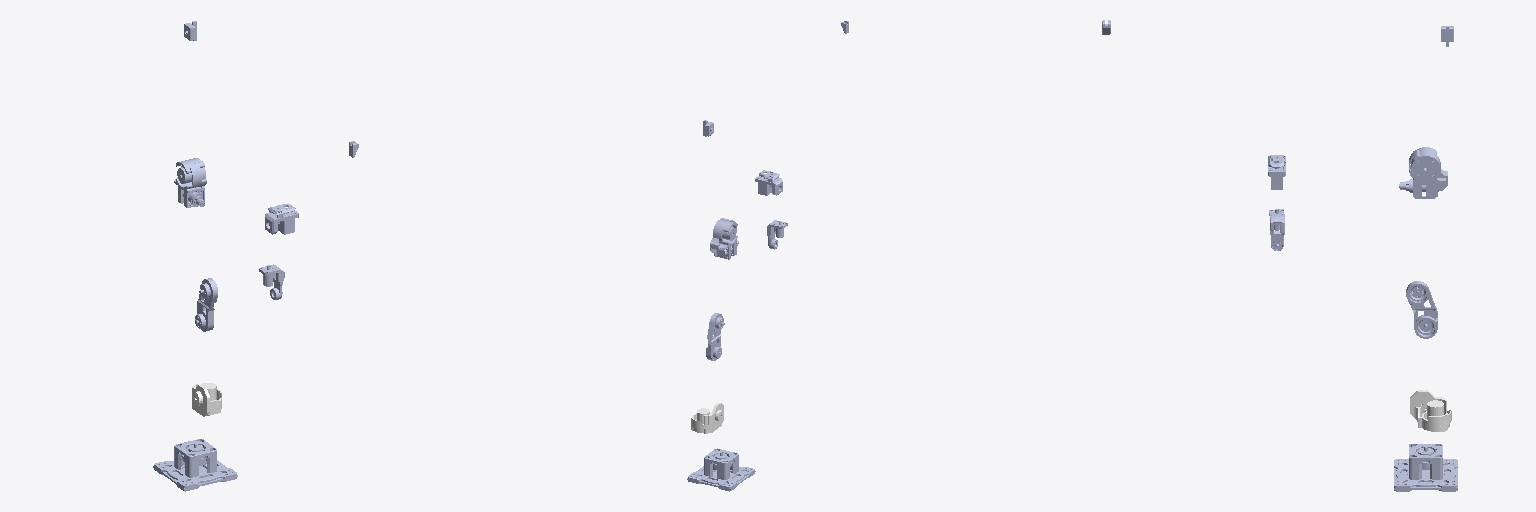
The robot description file, URDF, robot "robot_arm_urdf":
<?xml version="1.0" encoding="utf-8"?>
<!-- This URDF was automatically created by SolidWorks to URDF Exporter! Originally created by Stephen Brawner ([email redacted]) 
     Commit Version: 1.5.1-0-g916b5db  Build Version: 1.5.7152.31018
     For more information, please see http://wiki.ros.org/sw_urdf_exporter -->
<robot
  name="robot_arm_urdf">

 <link name="world"/> 
  <joint name="base_joint" type="fixed"> 
  	<parent link="world"/> 
 	<child link="base_link"/> 
  	<origin rpy="0 0 0" xyz="0.0 0.0 0.01"/> 
  </joint> 

  <link
    name="base_link">
    <inertial>
      <origin
        xyz="4.1633E-17 0 0.073876"
        rpy="0 0 0" />
      <mass
        value="17.147" />
      <inertia
        ixx="0.192"
        ixy="-4.9423E-10"
        ixz="1.2752E-17"
        iyy="0.192"
        iyz="2.6417E-18"
        izz="0.29544" />
    </inertial>
    <visual>
      <origin
        xyz="0 0 0"
        rpy="0 0 0" />
      <geometry>
        <mesh
          filename="package://robot_arm_urdf/meshes/base_link.STL" />
      </geometry>
      <material
        name="">
        <color
          rgba="0.79216 0.81961 0.93333 1" />
      </material>
    </visual>
    <collision>
      <origin
        xyz="0 0 0"
        rpy="0 0 0" />
      <geometry>
        <mesh
          filename="package://robot_arm_urdf/meshes/base_link.STL" />
      </geometry>
    </collision>
  </link>
  <link
    name="link_1">
    <inertial>
      <origin
        xyz="-2.5757E-14 0.11047 -7.8988E-11"
        rpy="0 0 0" />
      <mass
        value="3.0905" />
      <inertia
        ixx="0.026302"
        ixy="-2.5267E-15"
        ixz="-1.4177E-12"
        iyy="0.019632"
        iyz="-7.4535E-12"
        izz="0.025388" />
    </inertial>
    <visual>
      <origin
        xyz="0 0 0"
        rpy="0 0 0" />
      <geometry>
        <mesh
          filename="package://robot_arm_urdf/meshes/link_1.STL" />
      </geometry>
      <material
        name="">
        <color
          rgba="1 1 1 1" />
      </material>
    </visual>
    <collision>
      <origin
        xyz="0 0 0"
        rpy="0 0 0" />
      <geometry>
        <mesh
          filename="package://robot_arm_urdf/meshes/link_1.STL" />
      </geometry>
    </collision>
  </link>
  <joint
    name="joint_1"
    type="revolute">
    <origin
      xyz="0 0 0.2"
      rpy="1.5708 0 1.5708" />
    <parent
      link="base_link" />
    <child
      link="link_1" />
    <axis
      xyz="0 1 0" />
    <limit
      lower="0"
      upper="3.142"
      effort="300"
      velocity="3" />
  </joint>
  <link
    name="link_2">
    <inertial>
      <origin
        xyz="-1.1102E-16 0.16752 -2.498E-16"
        rpy="0 0 0" />
      <mass
        value="5.5867" />
      <inertia
        ixx="0.12632"
        ixy="8.4877E-17"
        ixz="7.8685E-19"
        iyy="0.011401"
        iyz="1.4432E-16"
        izz="0.12911" />
    </inertial>
    <visual>
      <origin
        xyz="0 0 0"
        rpy="0 0 0" />
      <geometry>
        <mesh
          filename="package://robot_arm_urdf/meshes/link_2.STL" />
      </geometry>
      <material
        name="">
        <color
          rgba="0.79216 0.81961 0.93333 1" />
      </material>
    </visual>
    <collision>
      <origin
        xyz="0 0 0"
        rpy="0 0 0" />
      <geometry>
        <mesh
          filename="package://robot_arm_urdf/meshes/link_2.STL" />
      </geometry>
    </collision>
  </link>
  <joint
    name="joint_2"
    type="revolute">
    <origin
      xyz="0 0.205 0"
      rpy="0 0 0" />
    <parent
      link="link_1" />
    <child
      link="link_2" />
    <axis
      xyz="0 0 1" />
    <limit
      lower="-1.57"
      upper="1.57"
      effort="200"
      velocity="3" />
  </joint>
  <link
    name="link_3">
    <inertial>
      <origin
        xyz="-0.17893 0 -1.249E-16"
        rpy="0 0 0" />
      <mass
        value="2.8262" />
      <inertia
        ixx="0.0074041"
        ixy="-1.7927E-17"
        ixz="4.2672E-17"
        iyy="0.028552"
        iyz="-3.4736E-10"
        izz="0.025128" />
    </inertial>
    <visual>
      <origin
        xyz="0 0 0"
        rpy="0 0 0" />
      <geometry>
        <mesh
          filename="package://robot_arm_urdf/meshes/link_3.STL" />
      </geometry>
      <material
        name="">
        <color
          rgba="0.79216 0.81961 0.93333 1" />
      </material>
    </visual>
    <collision>
      <origin
        xyz="0 0 0"
        rpy="0 0 0" />
      <geometry>
        <mesh
          filename="package://robot_arm_urdf/meshes/link_3.STL" />
      </geometry>
    </collision>
  </link>
  <joint
    name="joint_3"
    type="revolute">
    <origin
      xyz="0 0.4 0"
      rpy="0 0 0" />
    <parent
      link="link_2" />
    <child
      link="link_3" />
    <axis
      xyz="0 0 1" />
    <limit
      lower="0"
      upper="3.142"
      effort="200"
      velocity="3" />
  </joint>
  <link
    name="link_4">
    <inertial>
      <origin
        xyz="-0.051672 -2.2204E-16 -1.1102E-16"
        rpy="0 0 0" />
      <mass
        value="1.8097" />
      <inertia
        ixx="0.0023112"
        ixy="-9.6437E-18"
        ixz="-9.9829E-19"
        iyy="0.0096102"
        iyz="1.3194E-19"
        izz="0.0093908" />
    </inertial>
    <visual>
      <origin
        xyz="0 0 0"
        rpy="0 0 0" />
      <geometry>
        <mesh
          filename="package://robot_arm_urdf/meshes/link_4.STL" />
      </geometry>
      <material
        name="">
        <color
          rgba="0.79216 0.81961 0.93333 1" />
      </material>
    </visual>
    <collision>
      <origin
        xyz="0 0 0"
        rpy="0 0 0" />
      <geometry>
        <mesh
          filename="package://robot_arm_urdf/meshes/link_4.STL" />
      </geometry>
    </collision>
  </link>
  <joint
    name="joint_4"
    type="revolute">
    <origin
      xyz="-0.35 0 0"
      rpy="0 0 1.5708" />
    <parent
      link="link_3" />
    <child
      link="link_4" />
    <axis
      xyz="0 0 1" />
    <limit
      lower="0"
      upper="-3.142"
      effort="200"
      velocity="3" />
  </joint>
  <link
    name="link_5">
    <inertial>
      <origin
        xyz="-0.018544 0 -2.7756E-17"
        rpy="0 0 0" />
      <mass
        value="0.19053" />
      <inertia
        ixx="0.00030197"
        ixy="1.6611E-20"
        ixz="3.6309E-21"
        iyy="0.00022817"
        iyz="-1.9664E-11"
        izz="0.00011843" />
    </inertial>
    <visual>
      <origin
        xyz="0 0 0"
        rpy="0 0 0" />
      <geometry>
        <mesh
          filename="package://robot_arm_urdf/meshes/link_5.STL" />
      </geometry>
      <material
        name="">
        <color
          rgba="0.79216 0.81961 0.93333 1" />
      </material>
    </visual>
    <collision>
      <origin
        xyz="0 0 0"
        rpy="0 0 0" />
      <geometry>
        <mesh
          filename="package://robot_arm_urdf/meshes/link_5.STL" />
      </geometry>
    </collision>
  </link>
  <joint
    name="joint_5"
    type="revolute">
    <origin
      xyz="-0.188 0 0"
      rpy="0 0 0" />
    <parent
      link="link_4" />
    <child
      link="link_5" />
    <axis
      xyz="1 0 0" />
    <limit
      lower="0"
      upper="3.142"
      effort="200"
      velocity="3" />
  </joint>
  <link
    name="link_6">
    <inertial>
      <origin
        xyz="-0.60237 0.4 -0.016013"
        rpy="0 0 0" />
      <mass
        value="0.11653" />
      <inertia
        ixx="3.9246E-05"
        ixy="-9.4878E-20"
        ixz="1.0258E-05"
        iyy="7.1189E-05"
        iyz="-3.4206E-20"
        izz="8.4875E-05" />
    </inertial>
    <visual>
      <origin
        xyz="0 0 0"
        rpy="0 0 0" />
      <geometry>
        <mesh
          filename="package://robot_arm_urdf/meshes/link_6.STL" />
      </geometry>
      <material
        name="">
        <color
          rgba="0.79216 0.81961 0.93333 1" />
      </material>
    </visual>
    <collision>
      <origin
        xyz="0 0 0"
        rpy="0 0 0" />
      <geometry>
        <mesh
          filename="package://robot_arm_urdf/meshes/link_6.STL" />
      </geometry>
    </collision>
  </link>
  <joint
    name="joint_6"
    type="prismatic">
    <origin
      xyz="0.54 -0.4 0"
      rpy="0 0 0" />
    <parent
      link="link_5" />
    <child
      link="link_6" />
    <axis
      xyz="0 0 -1" />
    <limit
      lower="0"
      upper="0.03"
      effort="100"
      velocity="3" />
  </joint>
  <link
    name="link_7">
    <inertial>
      <origin
        xyz="-0.60237 0.4 -0.016013"
        rpy="0 0 0" />
      <mass
        value="0.11653" />
      <inertia
        ixx="3.9246E-05"
        ixy="-4.7946E-20"
        ixz="1.0258E-05"
        iyy="7.1189E-05"
        iyz="-3.946E-20"
        izz="8.4875E-05" />
    </inertial>
    <visual>
      <origin
        xyz="0 0 0"
        rpy="0 0 0" />
      <geometry>
        <mesh
          filename="package://robot_arm_urdf/meshes/link_7.STL" />
      </geometry>
      <material
        name="">
        <color
          rgba="0.79216 0.81961 0.93333 1" />
      </material>
    </visual>
    <collision>
      <origin
        xyz="0 0 0"
        rpy="0 0 0" />
      <geometry>
        <mesh
          filename="package://robot_arm_urdf/meshes/link_7.STL" />
      </geometry>
    </collision>
  </link>
  <joint
    name="joint_7"
    type="prismatic">
    <origin
      xyz="0.54 0.4 0"
      rpy="3.1416 0 0" />
    <parent
      link="link_5" />
    <child
      link="link_7" />
    <axis
      xyz="0 0 1" />
    <limit
      lower="-0.03"
      upper="0"
      effort="100"
      velocity="3" />
  </joint>

<transmission name="link_1_trans"> 
 	<type>transmission_interface/SimpleTransmission</type> 
 	<joint name="joint_1"> 
 
 	<hardwareInterface>hardware_interface/PositionJointInterface</hardwareInterface> 
 	</joint> 
 	<actuator name="link_1_motor"> 
 
 	<hardwareInterface>hardware_interface/PositionJointInterface</hardwareInterface> 
  	<mechanicalReduction>1</mechanicalReduction> 
 	</actuator> 
</transmission>

<transmission name="link_2_trans"> 
 	<type>transmission_interface/SimpleTransmission</type> 
 	<joint name="joint_2"> 
 
 	<hardwareInterface>hardware_interface/PositionJointInterface</hardwareInterface> 
 	</joint> 
 	<actuator name="link_2_motor"> 
 
 	<hardwareInterface>hardware_interface/PositionJointInterface</hardwareInterface> 
  	<mechanicalReduction>1</mechanicalReduction> 
 	</actuator> 
</transmission>

<transmission name="link_3_trans"> 
 	<type>transmission_interface/SimpleTransmission</type> 
 	<joint name="joint_3"> 
 
 	<hardwareInterface>hardware_interface/PositionJointInterface</hardwareInterface> 
 	</joint> 
 	<actuator name="link_3_motor"> 
 
 	<hardwareInterface>hardware_interface/PositionJointInterface</hardwareInterface> 
  	<mechanicalReduction>1</mechanicalReduction> 
 	</actuator> 
</transmission>

<transmission name="link_4_trans"> 
 	<type>transmission_interface/SimpleTransmission</type> 
 	<joint name="joint_4"> 
 
 	<hardwareInterface>hardware_interface/PositionJointInterface</hardwareInterface> 
 	</joint> 
 	<actuator name="link_4_motor"> 
 
 	<hardwareInterface>hardware_interface/PositionJointInterface</hardwareInterface> 
  	<mechanicalReduction>1</mechanicalReduction> 
 	</actuator> 
</transmission>

<transmission name="link_5_trans"> 
 	<type>transmission_interface/SimpleTransmission</type> 
 	<joint name="joint_5"> 
 
 	<hardwareInterface>hardware_interface/PositionJointInterface</hardwareInterface> 
 	</joint> 
 	<actuator name="link_5_motor"> 
 
 	<hardwareInterface>hardware_interface/PositionJointInterface</hardwareInterface> 
  	<mechanicalReduction>1</mechanicalReduction> 
 	</actuator> 
</transmission>

<transmission name="link_6_trans"> 
 	<type>transmission_interface/SimpleTransmission</type> 
 	<joint name="joint_6"> 
 
 	<hardwareInterface>hardware_interface/PositionJointInterface</hardwareInterface> 
 	</joint> 
 	<actuator name="link_6_motor"> 
 
 	<hardwareInterface>hardware_interface/PositionJointInterface</hardwareInterface> 
  	<mechanicalReduction>1</mechanicalReduction> 
 	</actuator> 
</transmission>

<transmission name="link_7_trans"> 
 	<type>transmission_interface/SimpleTransmission</type> 
 	<joint name="joint_7"> 
 
 	<hardwareInterface>hardware_interface/PositionJointInterface</hardwareInterface> 
 	</joint> 
 	<actuator name="link_7_motor"> 
 
 	<hardwareInterface>hardware_interface/PositionJointInterface</hardwareInterface> 
  	<mechanicalReduction>1</mechanicalReduction> 
 	</actuator> 
</transmission>

<transmission name="link_8_trans"> 
 	<type>transmission_interface/SimpleTransmission</type> 
 	<joint name="joint_8"> 
 
 	<hardwareInterface>hardware_interface/PositionJointInterface</hardwareInterface> 
 	</joint> 
 	<actuator name="link_8_motor"> 
 
 	<hardwareInterface>hardware_interface/PositionJointInterface</hardwareInterface> 
  	<mechanicalReduction>1</mechanicalReduction> 
 	</actuator> 
</transmission>

</robot>

--- What the picture shows (computed from the rendered views, not written in the file) ---
3 views of the same robot in one strip: view 1: azimuth 30°, elevation 25°; view 2: azimuth 150°, elevation 25°; view 3: azimuth 270°, elevation 25° (orthographic).
Robot: robot_arm_urdf — 9 links, 8 joints (5 revolute, 2 prismatic, 1 fixed); root link world; default pose: every joint at zero.
Visible links, largest first — view 1: base_link, link_3, link_2, link_1, link_4, link_5; view 2: base_link, link_3, link_1, link_2, link_4; view 3: base_link, link_3, link_1, link_2, link_5, link_4.
Link boxes in pixels (x1,y1,x2,y2): base_link: (153, 439, 237, 491); link_3: (174, 158, 206, 207); link_2: (195, 278, 217, 331); link_1: (192, 383, 221, 416); link_4: (265, 204, 298, 234); link_5: (259, 264, 284, 299); base_link: (687, 448, 755, 491); link_3: (710, 218, 738, 259); link_1: (691, 403, 723, 433); link_2: (706, 313, 724, 360); link_4: (755, 170, 782, 195); base_link: (1394, 444, 1457, 491); link_3: (1399, 147, 1447, 198); link_1: (1410, 390, 1451, 431); link_2: (1406, 281, 1437, 338); link_5: (1269, 209, 1284, 250); link_4: (1268, 155, 1285, 189).
Bounding box of the posed robot: 0.1591 × 0.8355 × 1.19 m (x, y, z).
Meshes: 8 distinct files referenced, 8 mesh visuals loaded (8 binary STL).
